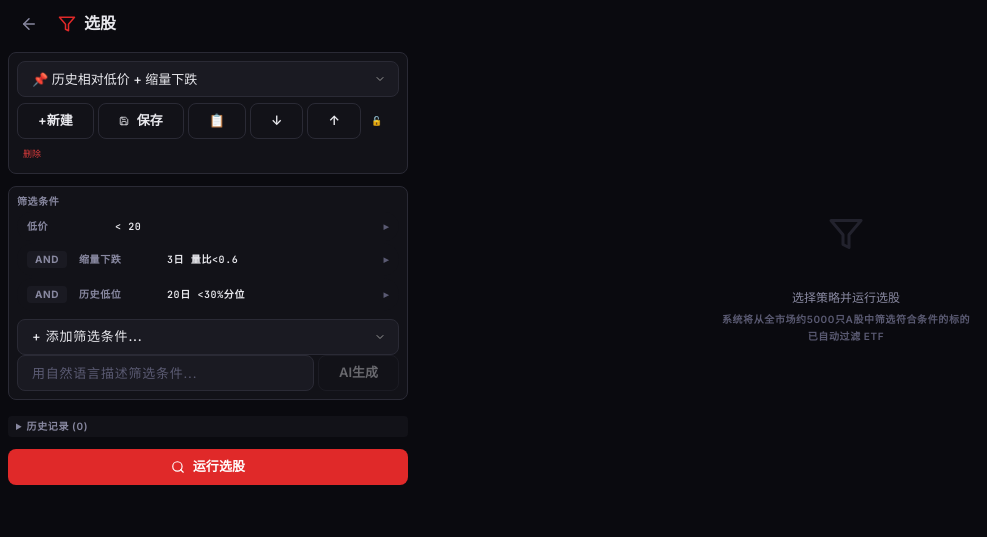
Scenario: ScreenerPage › generates conditions via AI description
Check: the text "低价" is shown, box left=27, top=220, right=48, bottom=232
Type "寻找超卖股票" into the field with placeholder "用自然语言描述筛选条件..." at (165, 372), box left=17, top=354, right=314, bottom=390
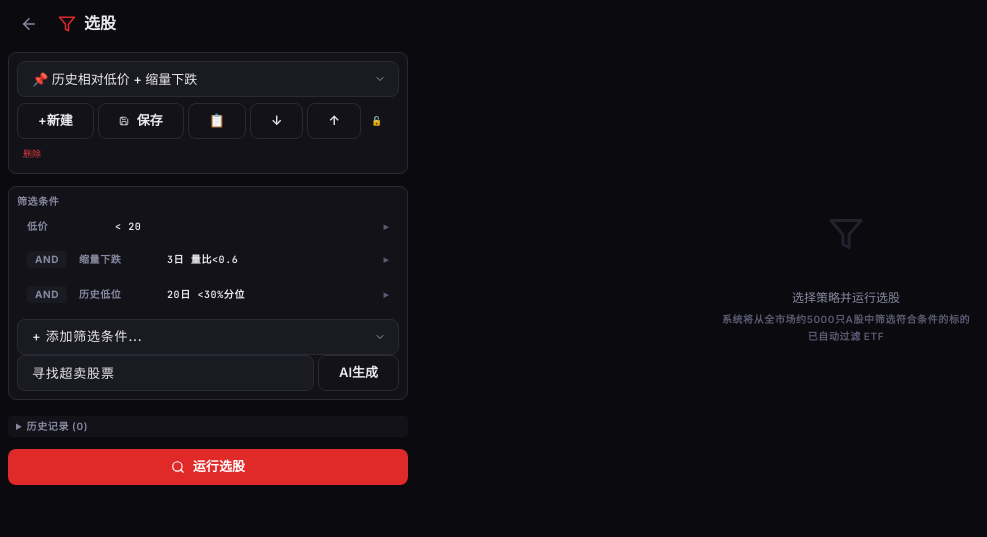
Click the button "AI生成" at (358, 372), box left=318, top=354, right=399, bottom=390
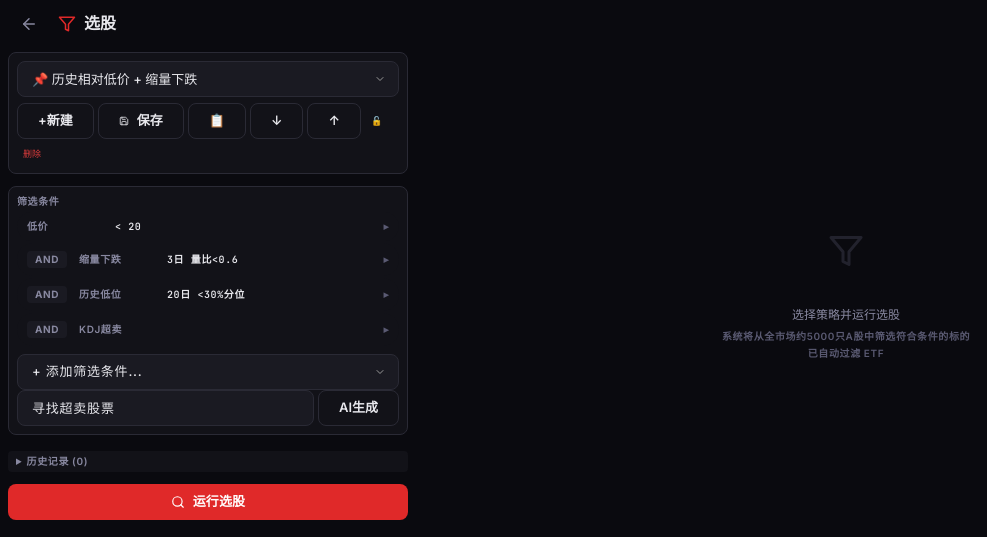
Check: the text "KDJ超卖" is shown, box left=79, top=322, right=122, bottom=334
